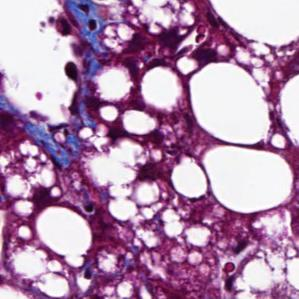inflammation: (147, 21, 221, 64), (136, 152, 171, 191)
